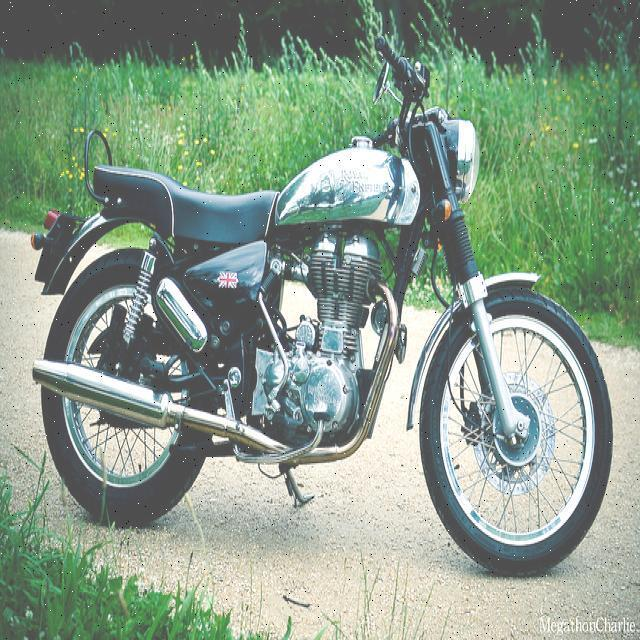motorcycle: (25, 31, 615, 580)
plate: (89, 416, 177, 483)
